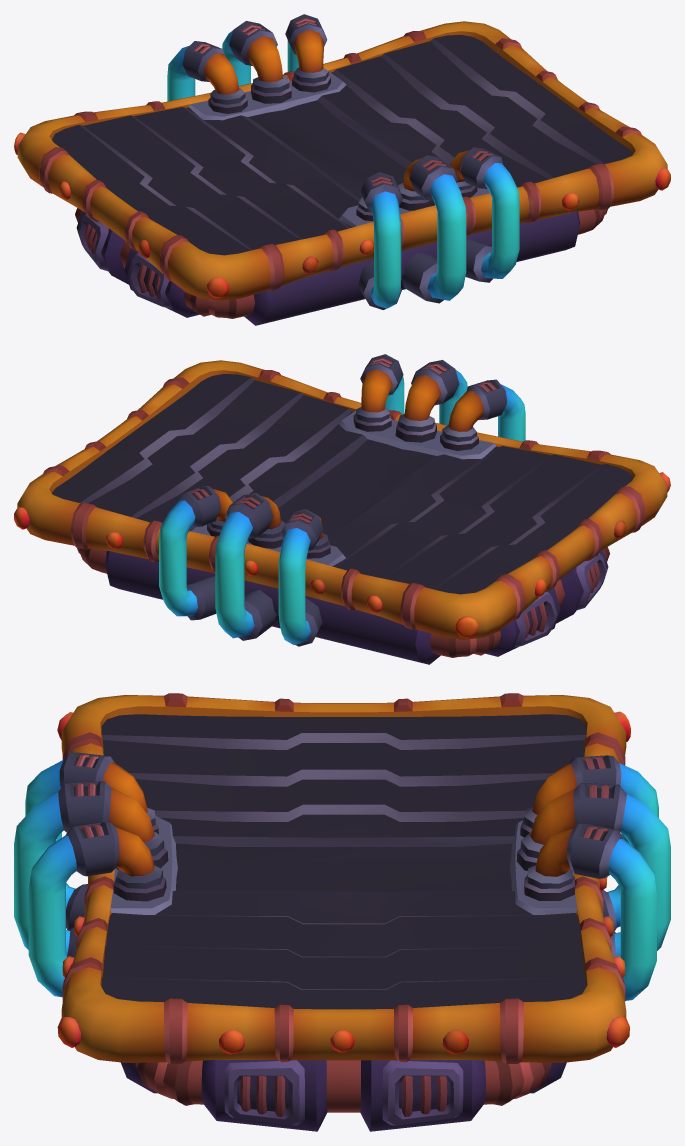
The model's file is SM_Platform_Tower_07.fbx.
3 views of the same model, one above another, from view 1: azimuth 30°, elevation 25°; view 2: azimuth 150°, elevation 25°; view 3: azimuth 270°, elevation 25° (orthographic). The views are drawn at different scales.
Visible parts, largest first — view 1: SM_Platform_Tower_07; view 2: SM_Platform_Tower_07; view 3: SM_Platform_Tower_07.
Part boxes in pixels (left/top/right/bottom): SM_Platform_Tower_07: left=14, top=14, right=670, bottom=325; SM_Platform_Tower_07: left=14, top=354, right=670, bottom=664; SM_Platform_Tower_07: left=14, top=693, right=670, bottom=1131.
Size of the model in its own units: 10.52 by 3.11 by 8.85.
